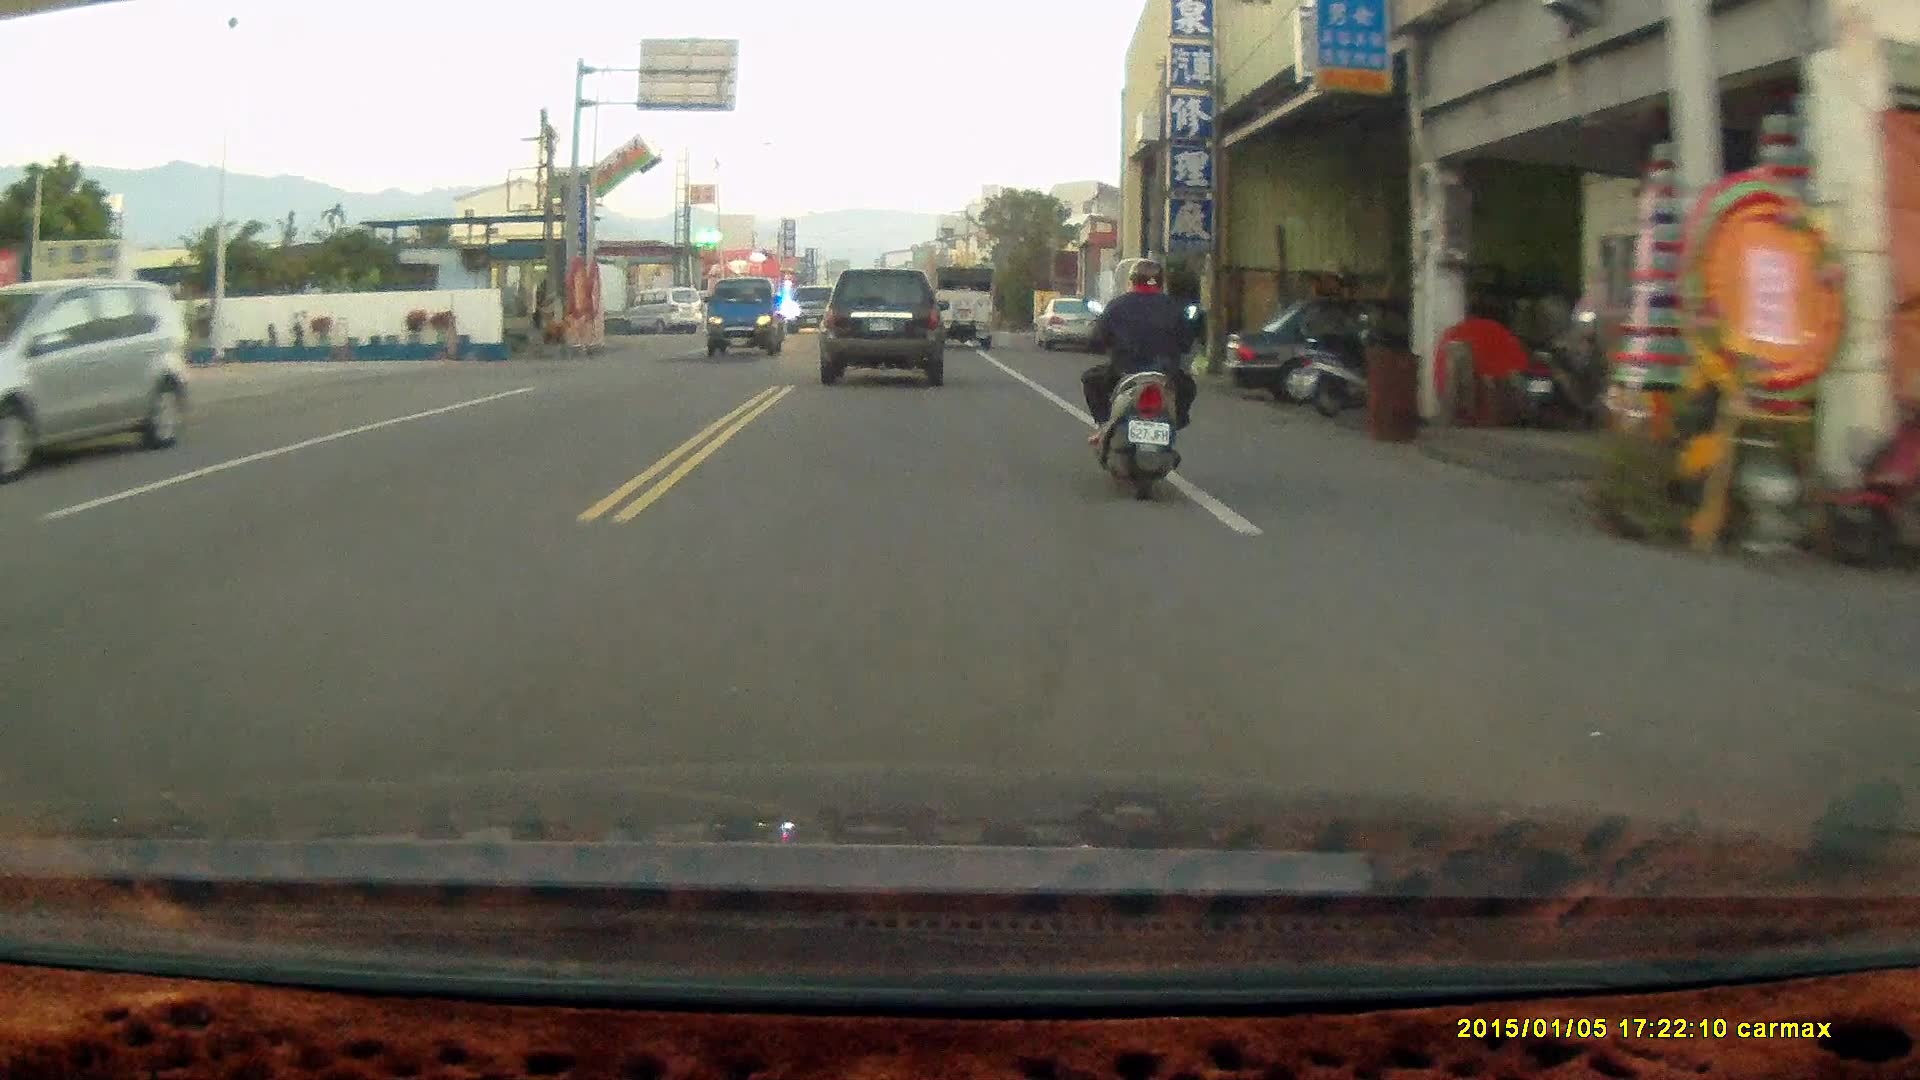rider: (1083, 250, 1200, 495)
vehicle: (1, 273, 193, 484), (1216, 287, 1488, 403), (821, 266, 947, 382), (708, 270, 795, 352), (927, 262, 998, 346), (623, 285, 707, 334), (1034, 297, 1098, 348)
